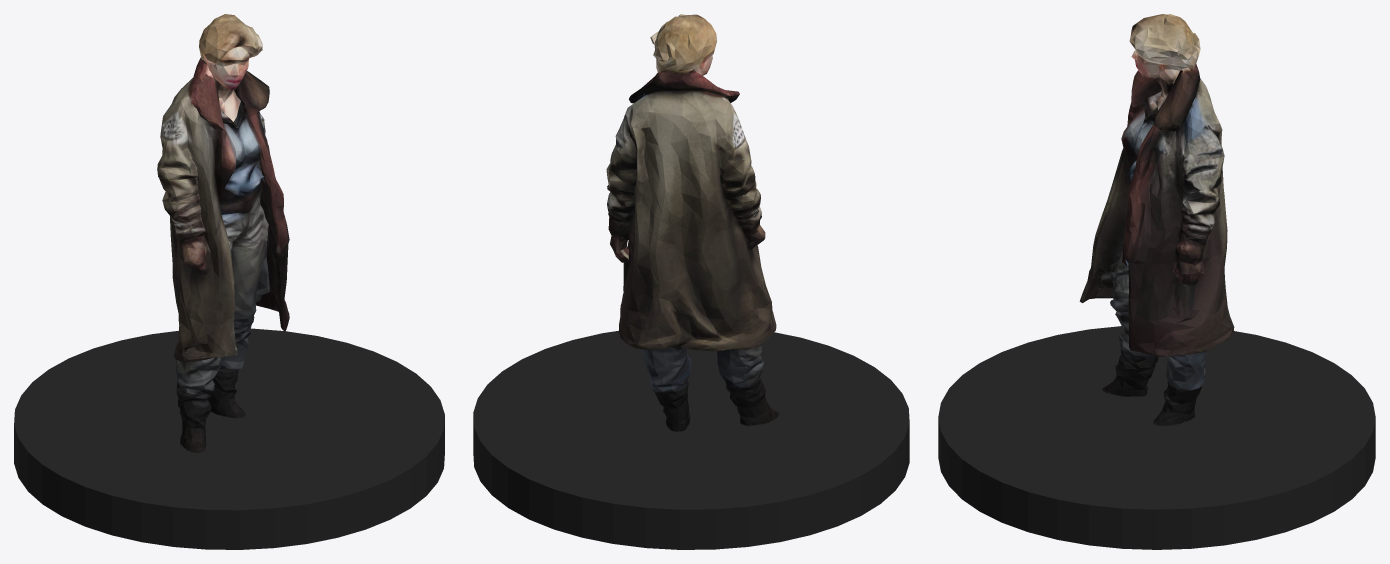
The model's file is sophie-robinson.glb.
The picture shows the model from 3 angles, left to right: view 1: azimuth 30°, elevation 25°; view 2: azimuth 150°, elevation 25°; view 3: azimuth 270°, elevation 25°; orthographic projection.
Parts seen in each view (by area): view 1: base, figure; view 2: base, figure; view 3: base, figure.
Part boxes in pixels (box(x1,y1,x2,y2)): base: box(14, 328, 444, 549); figure: box(157, 14, 289, 452); base: box(473, 330, 909, 549); figure: box(606, 14, 778, 431); base: box(938, 326, 1375, 549); figure: box(1079, 14, 1234, 425).
Bounding box in the file's own units: 1.18 × 1.32 × 1.18.
2 materials, 1 textured.
